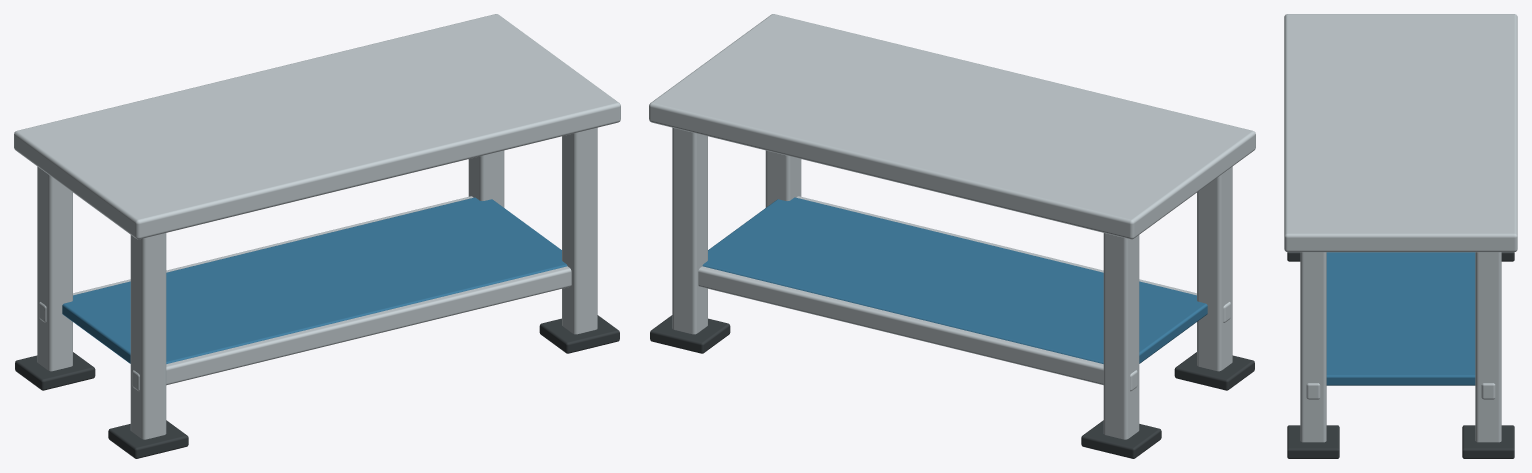
Rendered from recycling-centre-and-material-sorting-sample-sorting-t-453f97fd.glb.
3 renders of one model, left to right at view 1: azimuth 30°, elevation 25°; view 2: azimuth 150°, elevation 25°; view 3: azimuth 270°, elevation 25°, orthographic. The views are drawn at different scales.
Visible parts, largest first — view 1: sample-sorting-table; view 2: sample-sorting-table; view 3: sample-sorting-table.
Boxes of the visible parts, x1,y1,x2,y2 form: sample-sorting-table: (14,14,620,458); sample-sorting-table: (649,14,1255,458); sample-sorting-table: (1284,14,1517,458).
Bounding box in the file's own units: 1.8 × 0.85 × 0.7999.
